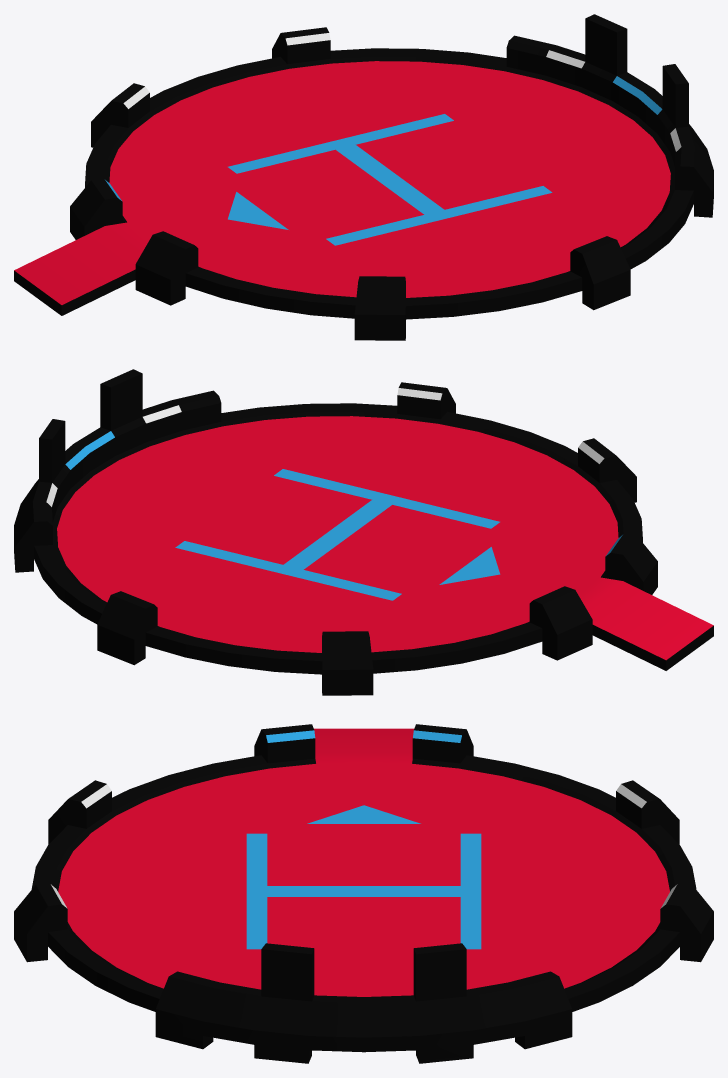
The model's file is LANDINGPAD.glb.
The picture shows the model from 3 angles, top to bottom: view 1: azimuth 30°, elevation 25°; view 2: azimuth 150°, elevation 25°; view 3: azimuth 270°, elevation 25°; orthographic projection. The views are drawn at different scales.
Parts seen in each view (by area): view 1: LANDINGPAD; view 2: LANDINGPAD; view 3: LANDINGPAD.
Boxes of the visible parts, left/top/right/bottom form: LANDINGPAD: left=14, top=14, right=713, bottom=340; LANDINGPAD: left=14, top=369, right=713, bottom=695; LANDINGPAD: left=14, top=724, right=713, bottom=1063.
Size of the model in its own units: 12.2 by 1.89 by 10.74.
